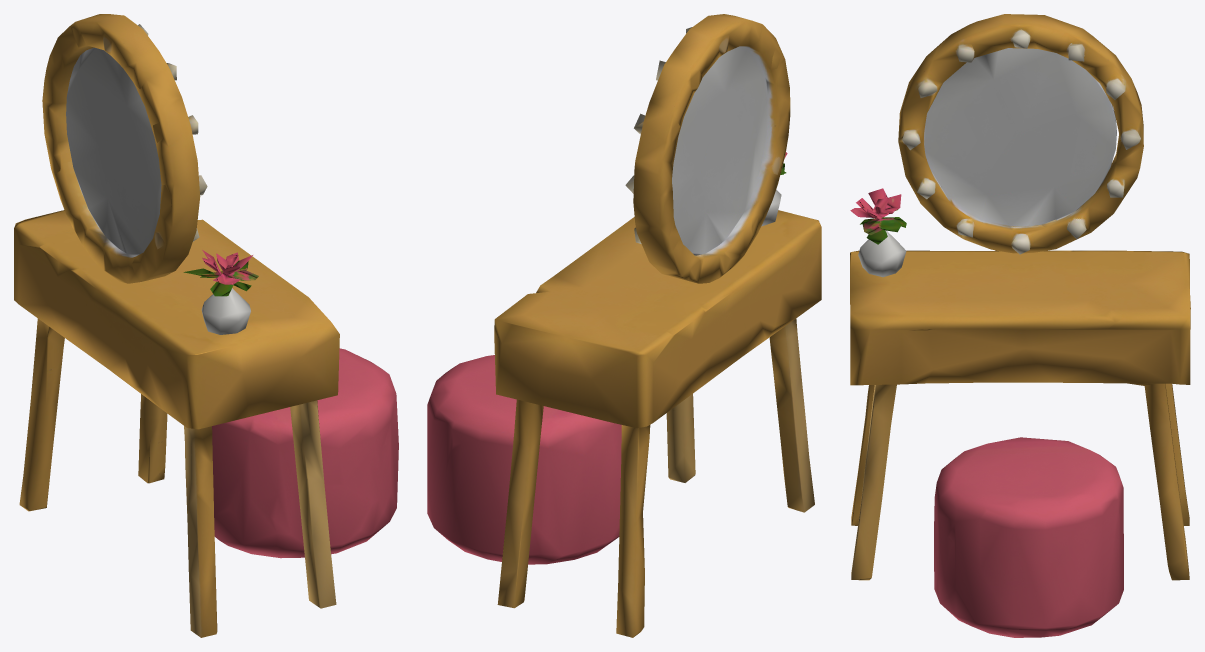
Rendered from powder-table.glb.
The picture shows the model from 3 angles, left to right: view 1: azimuth 30°, elevation 25°; view 2: azimuth 150°, elevation 25°; view 3: azimuth 270°, elevation 25°; orthographic projection. The views are drawn at different scales.
Visible parts, largest first — view 1: tripo_node_97c7cbba-e837-40a6-ba3a-8250aa6c16e8; view 2: tripo_node_97c7cbba-e837-40a6-ba3a-8250aa6c16e8; view 3: tripo_node_97c7cbba-e837-40a6-ba3a-8250aa6c16e8.
Part boxes in pixels (<box>): tripo_node_97c7cbba-e837-40a6-ba3a-8250aa6c16e8: <box>14,14,398,637</box>; tripo_node_97c7cbba-e837-40a6-ba3a-8250aa6c16e8: <box>427,14,821,637</box>; tripo_node_97c7cbba-e837-40a6-ba3a-8250aa6c16e8: <box>850,14,1190,637</box>.
Size of the model in its own units: 0.5562 by 1 by 0.6098.
Materials: 1 (1 with a texture image).
